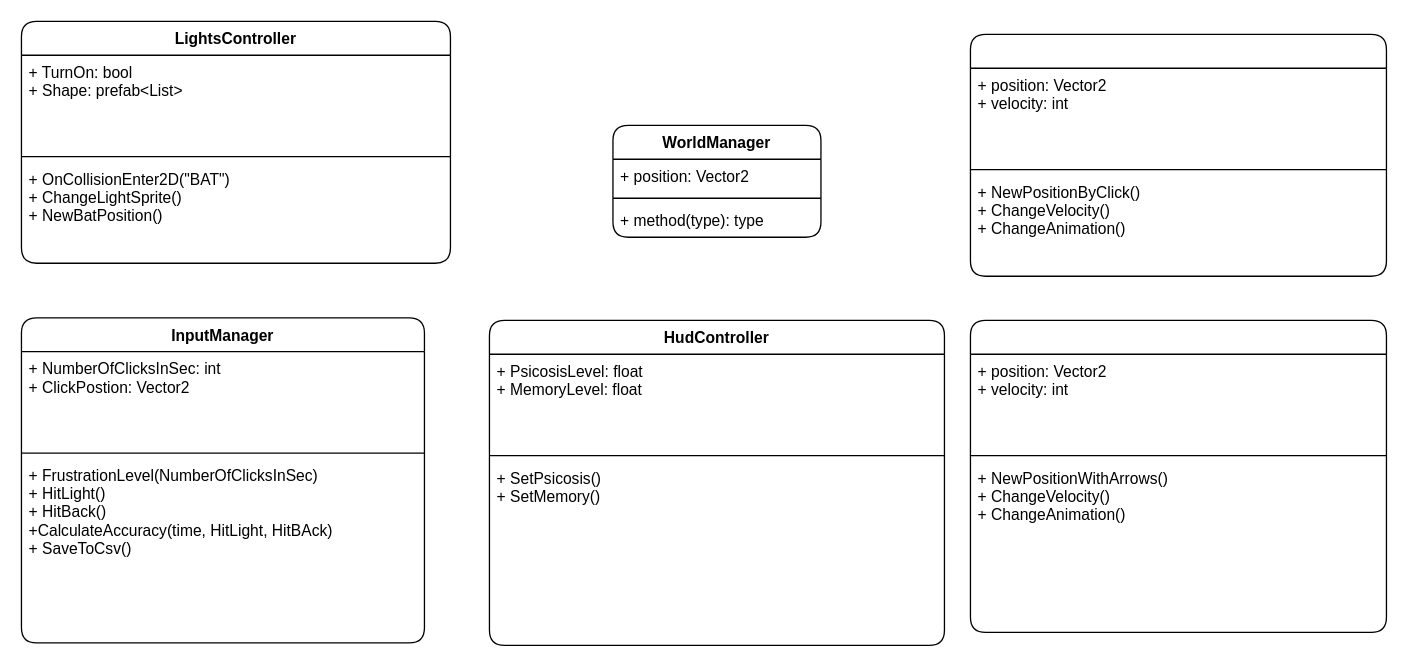
Image size: 1408x667. Some labels were removed from this diagram. The shapes that lost their labels are listed below. From the top down, each one's box as (x1, y1, x2, y2) in pixels, then its label:
(969, 33, 1386, 276): BatMovement
(969, 319, 1386, 632): GhostMovement
